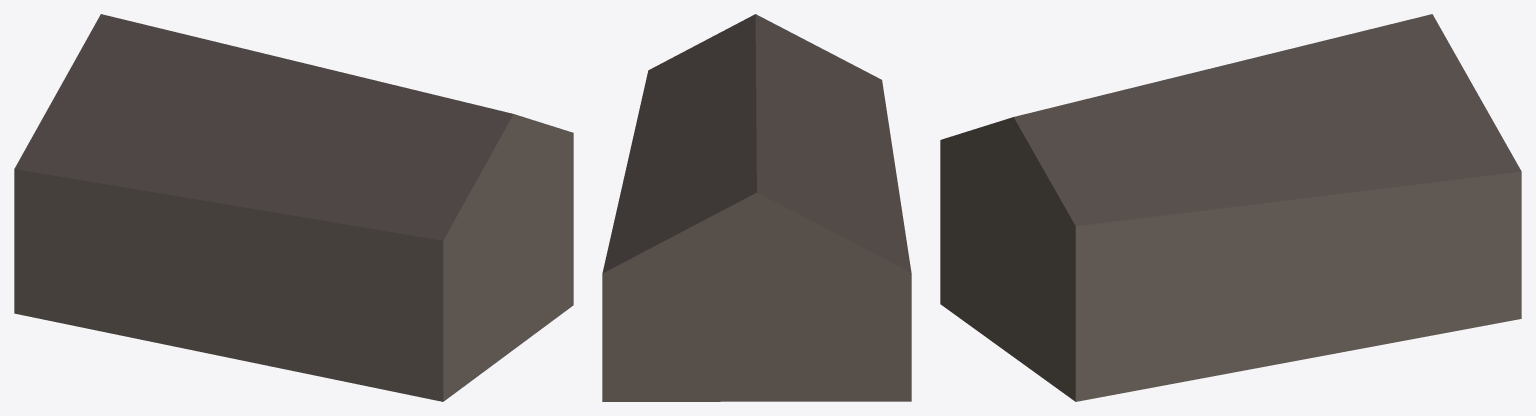
The picture shows the model from 3 angles, left to right: view 1: azimuth 30°, elevation 25°; view 2: azimuth 150°, elevation 25°; view 3: azimuth 270°, elevation 25°; orthographic projection. The views are drawn at different scales.
Visible parts, largest first — view 1: HP-w1197333392; view 2: HP-w1197333392; view 3: HP-w1197333392.
Part boxes in pixels (left/top/right/bottom): HP-w1197333392: left=14, top=14, right=573, bottom=401; HP-w1197333392: left=602, top=14, right=911, bottom=401; HP-w1197333392: left=940, top=14, right=1521, bottom=401.
Size of the model in its own units: 18.58 by 9.78 by 21.47.
